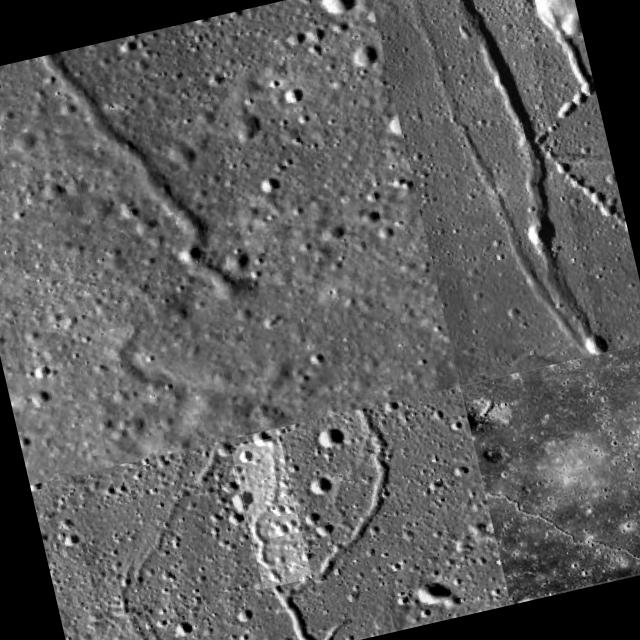rille: (65, 386, 508, 640), (392, 0, 602, 379), (28, 21, 258, 334), (434, 0, 612, 361), (178, 404, 430, 640), (460, 341, 640, 602), (366, 0, 598, 154), (230, 436, 312, 588)
